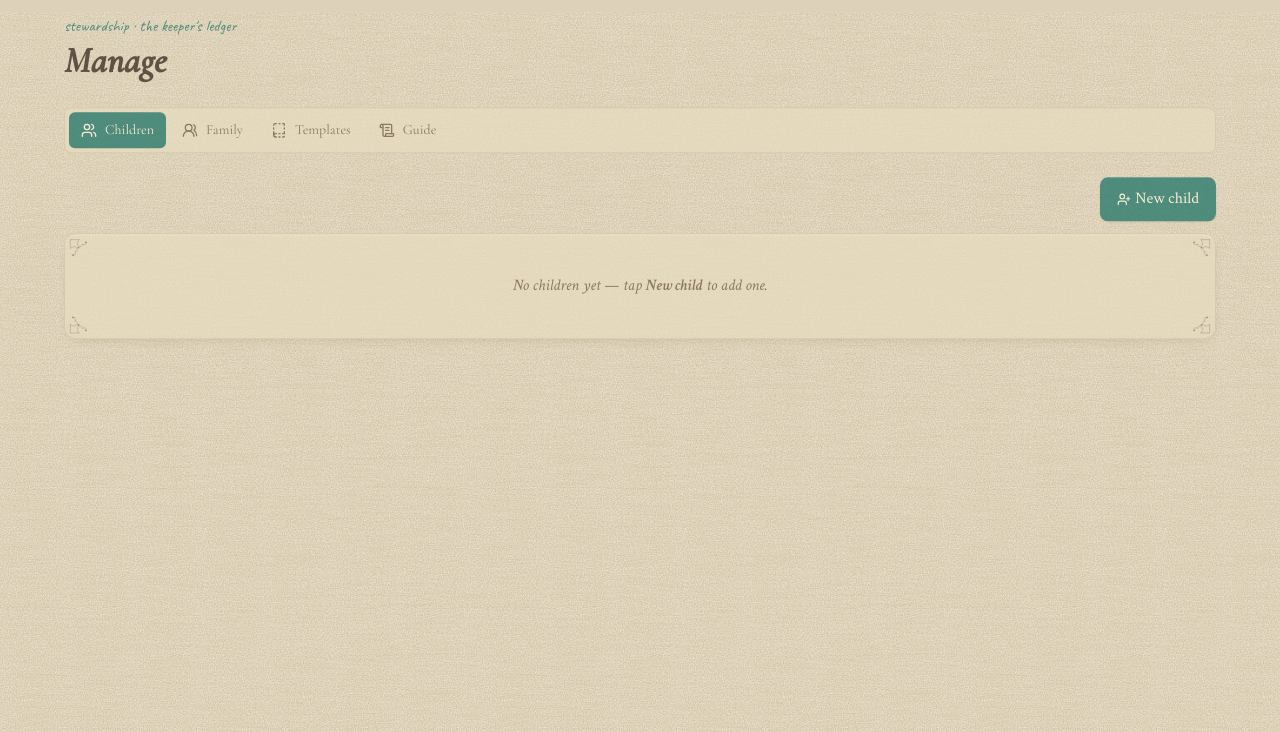
Scenario: Manage › shows a retry-able error instead of "No templates yet" when the fetch fails
Click the tab "Templates" at point(311, 130), box [259,112,363,148]
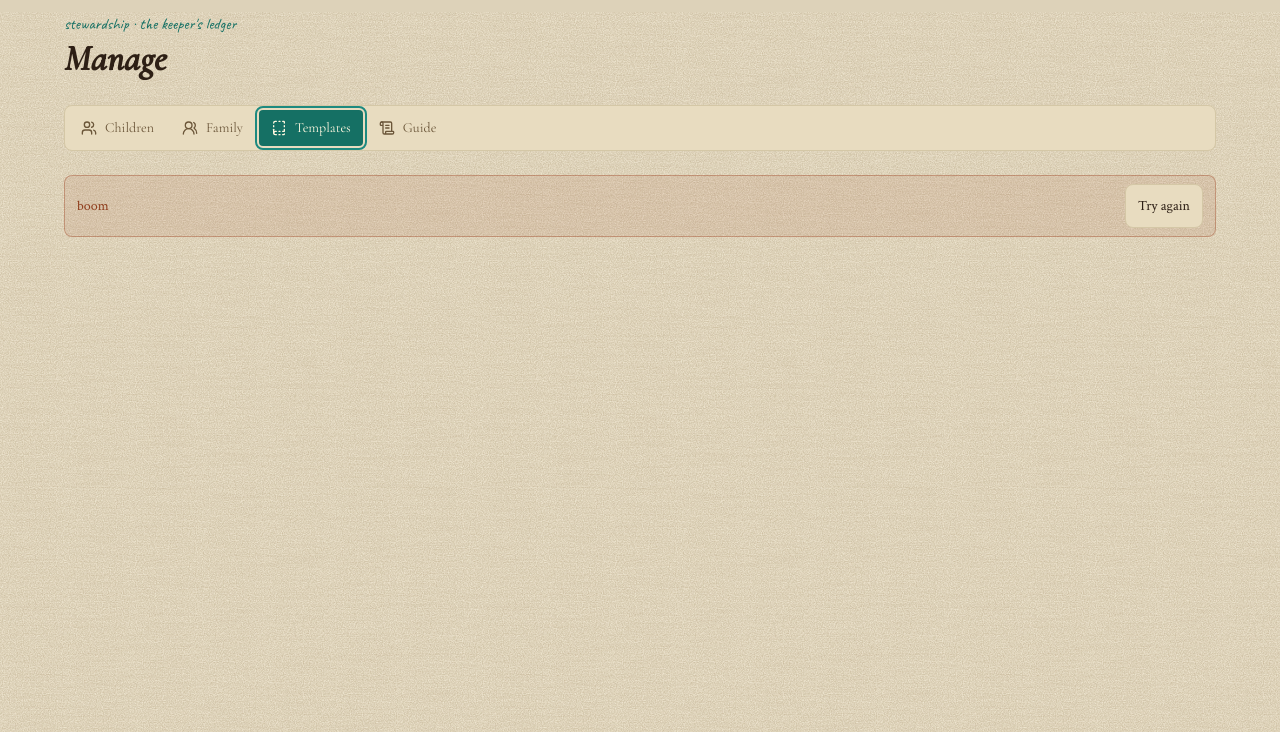
Now the message "boom Try again" is shown, box [64,175,1216,237]
